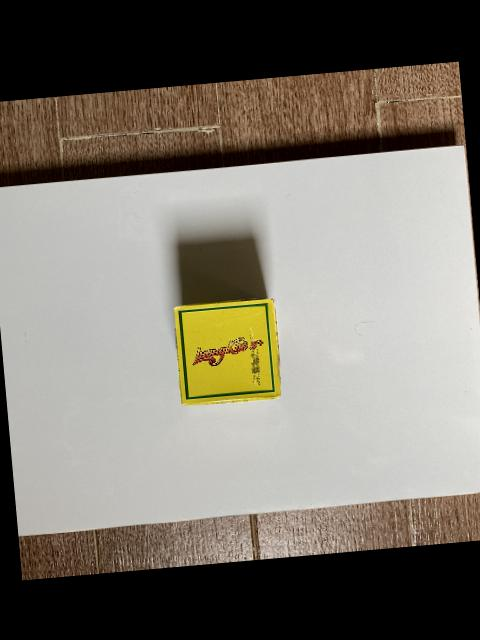luong_kho: (173, 297, 281, 404)
